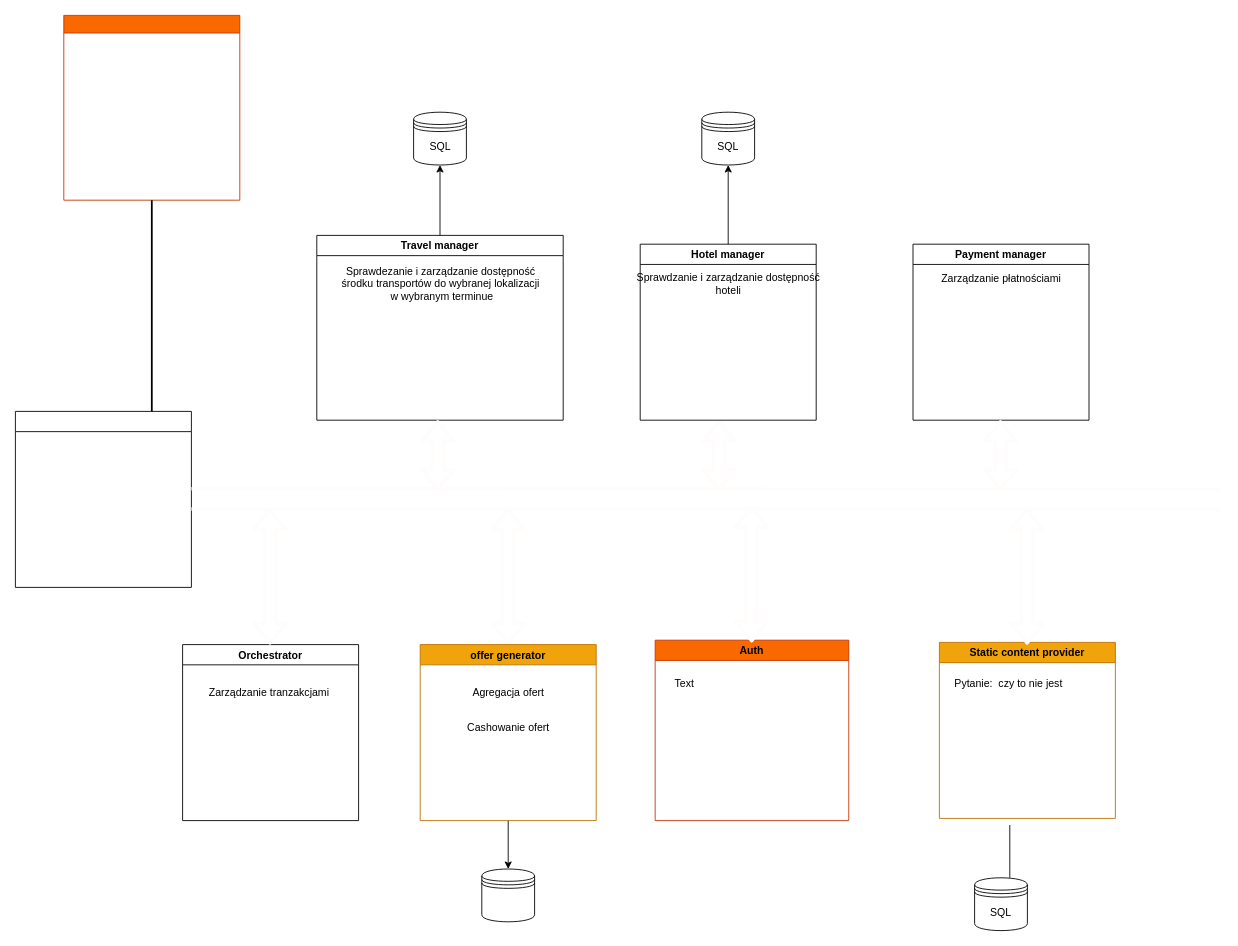
The diagram is 1238 pixels wide and 946 high, and some of its shapes have lost their labels. Here are the shapes that lost their labels. From the top down, the centre of each, then its label:
At (151,107): "Offer data provider".
At (103,499): "API Gateway".
At (508,895): "NO SQL".
